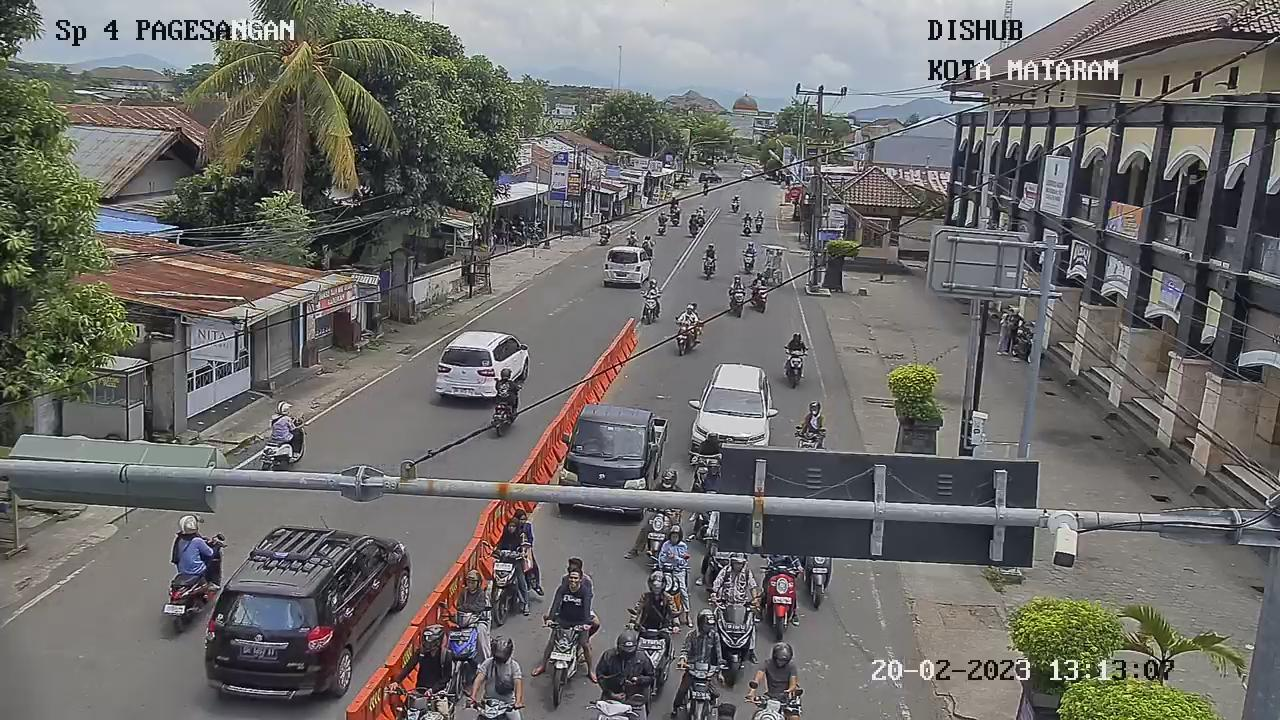car: (200, 524, 416, 702), (554, 394, 670, 528), (684, 355, 780, 471), (431, 330, 531, 403), (601, 245, 653, 288)
motorbike: (433, 601, 489, 700), (703, 598, 763, 682), (537, 614, 590, 708), (481, 542, 533, 626), (754, 561, 807, 642), (672, 653, 724, 720), (627, 616, 675, 688), (799, 550, 838, 612), (640, 504, 679, 559), (782, 345, 809, 391), (671, 318, 698, 357), (638, 294, 662, 326), (726, 288, 747, 320), (749, 282, 769, 315), (699, 253, 718, 281), (741, 251, 757, 275), (740, 221, 754, 240), (753, 215, 765, 235), (728, 200, 740, 215)
person: (595, 629, 656, 709), (394, 622, 454, 696), (467, 633, 524, 706), (165, 512, 218, 589), (745, 637, 802, 706), (545, 555, 595, 625), (709, 545, 762, 611), (676, 605, 727, 672), (631, 568, 677, 632), (451, 565, 489, 626), (653, 524, 690, 578), (492, 509, 530, 558), (793, 397, 830, 440), (265, 400, 300, 445), (491, 363, 522, 409), (693, 430, 726, 472), (696, 455, 726, 495), (784, 329, 809, 360), (675, 302, 698, 329), (640, 277, 662, 302), (700, 240, 719, 263), (727, 273, 744, 296), (751, 270, 768, 290), (641, 233, 656, 255), (742, 240, 758, 260), (598, 217, 612, 235), (687, 212, 700, 230), (625, 227, 638, 244), (656, 210, 669, 224), (741, 211, 753, 226), (730, 192, 741, 205), (756, 209, 766, 221)
